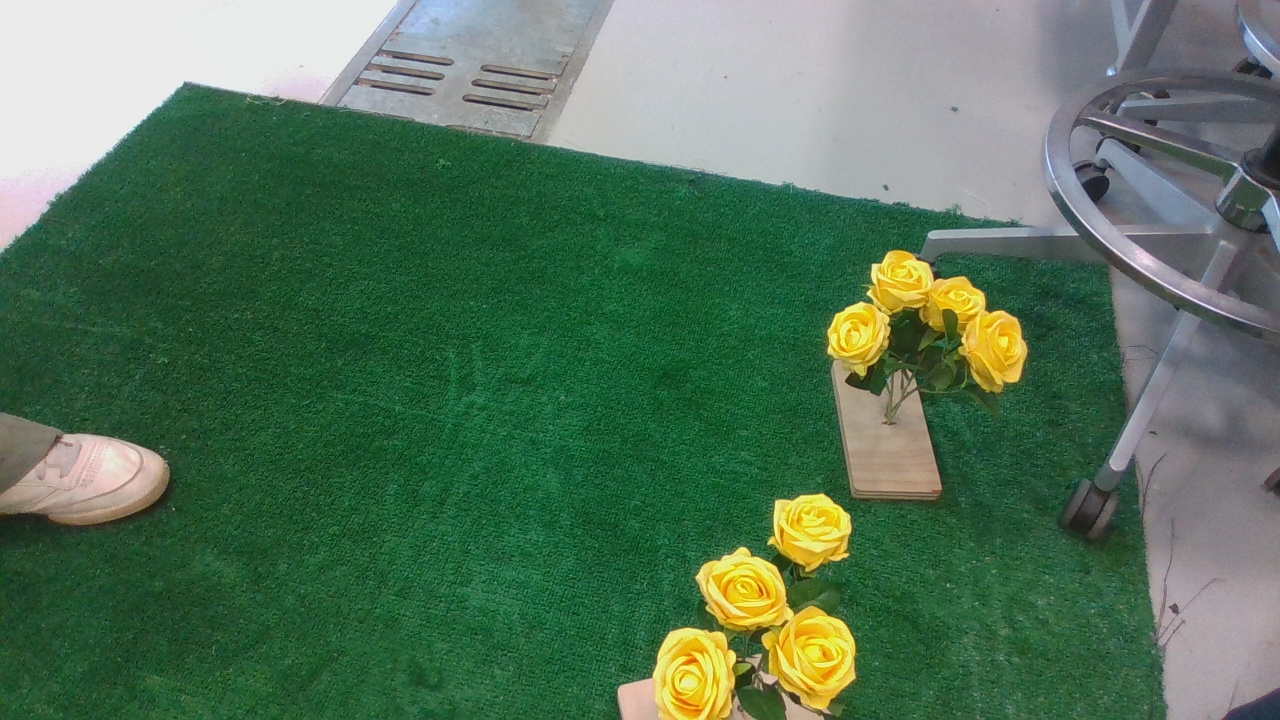rose: (645, 495, 873, 720), (822, 247, 1041, 450)
